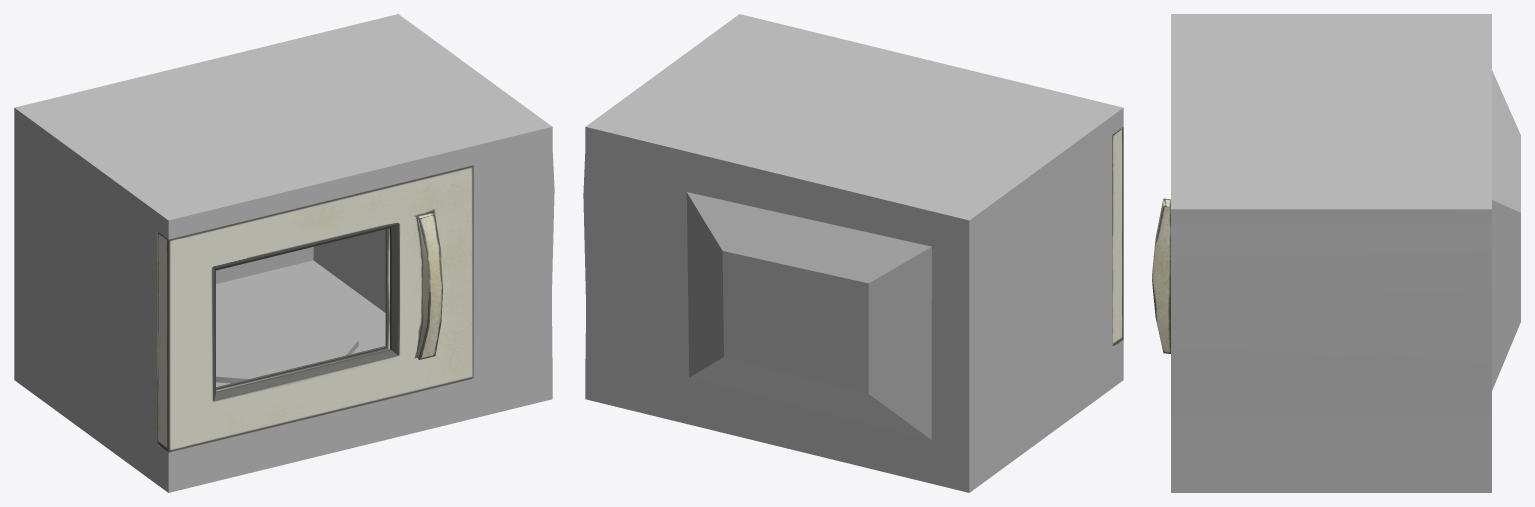
File: Microwave.FBX
3 views of the same model, side by side, from view 1: azimuth 30°, elevation 25°; view 2: azimuth 150°, elevation 25°; view 3: azimuth 270°, elevation 25° (orthographic). The views are drawn at different scales.
Parts seen in each view (by area): view 1: Body, Door; view 2: Body, Door; view 3: Body, Door.
Boxes of the visible parts, bbox=[...] form: Body: bbox=[14, 14, 554, 492]; Door: bbox=[157, 165, 473, 452]; Body: bbox=[583, 14, 1123, 492]; Door: bbox=[1112, 127, 1123, 347]; Body: bbox=[1171, 14, 1520, 492]; Door: bbox=[1152, 198, 1170, 353].
Size of the model in its own units: 40.22 by 27.13 by 31.95.
